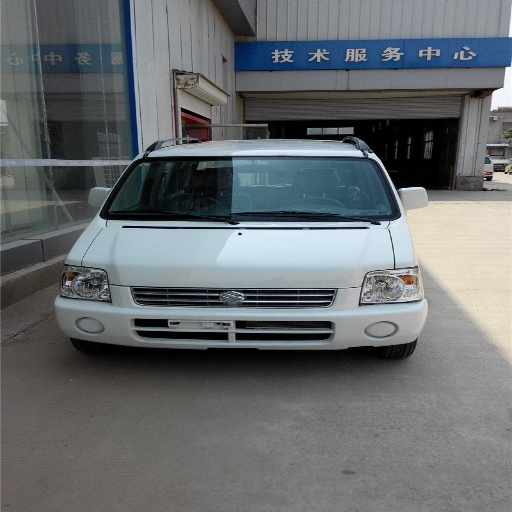front_bumper: (267, 287, 427, 346), (67, 283, 207, 346)
front_right_light: (62, 265, 111, 301)
hood: (86, 219, 250, 286), (267, 222, 396, 288)
